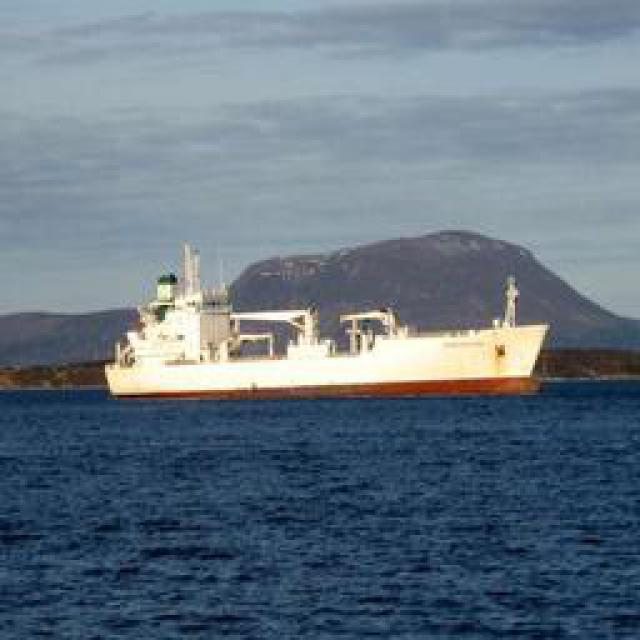Ship: (110, 281, 545, 404)
